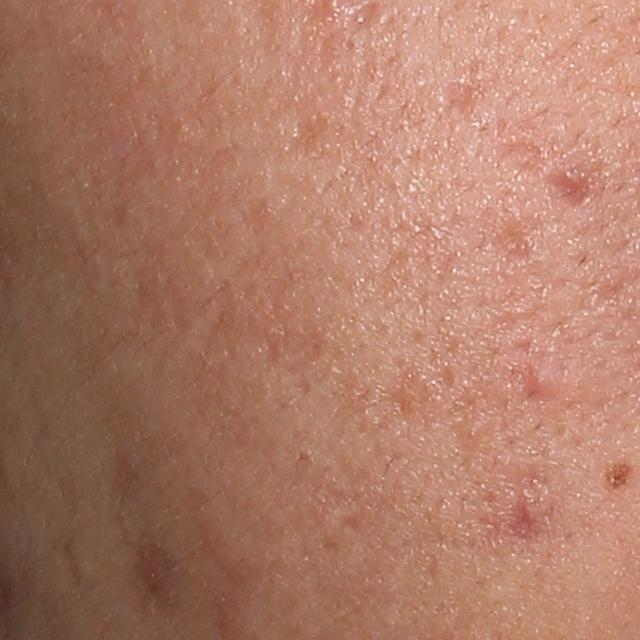atrophic_scar: (123, 521, 189, 611), (495, 135, 554, 184), (478, 221, 531, 267), (283, 111, 334, 158), (502, 493, 538, 547), (442, 80, 482, 120), (347, 0, 383, 36), (328, 509, 368, 533)
papule: (524, 363, 558, 395)
